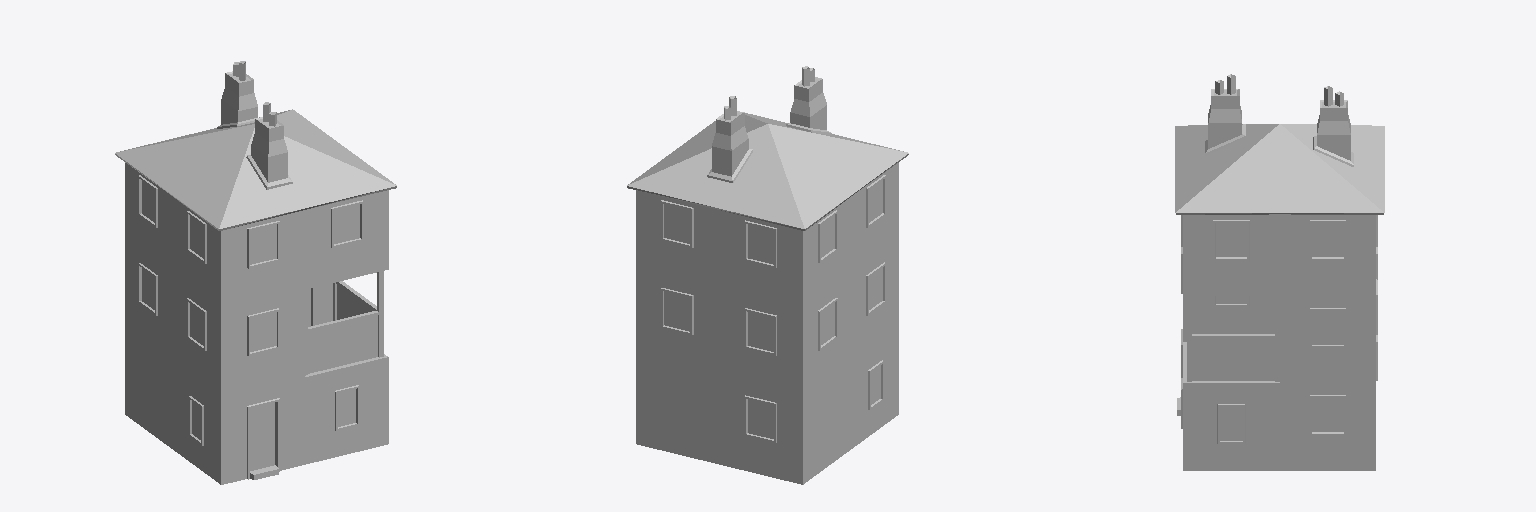
File: medieval_building_5.obj
The picture shows the model from 3 angles: view 1: azimuth 30°, elevation 25°; view 2: azimuth 150°, elevation 25°; view 3: azimuth 270°, elevation 25°; orthographic projection.
Visible parts, largest first — view 1: objbuilding_; view 2: objbuilding_; view 3: objbuilding_.
Part boxes in pixels (left/top/right/bottom): objbuilding_: left=115, top=61, right=396, bottom=484; objbuilding_: left=627, top=66, right=908, bottom=484; objbuilding_: left=1175, top=74, right=1384, bottom=470.
Bounding box in the file's own units: 21.38 × 39.71 × 21.7.